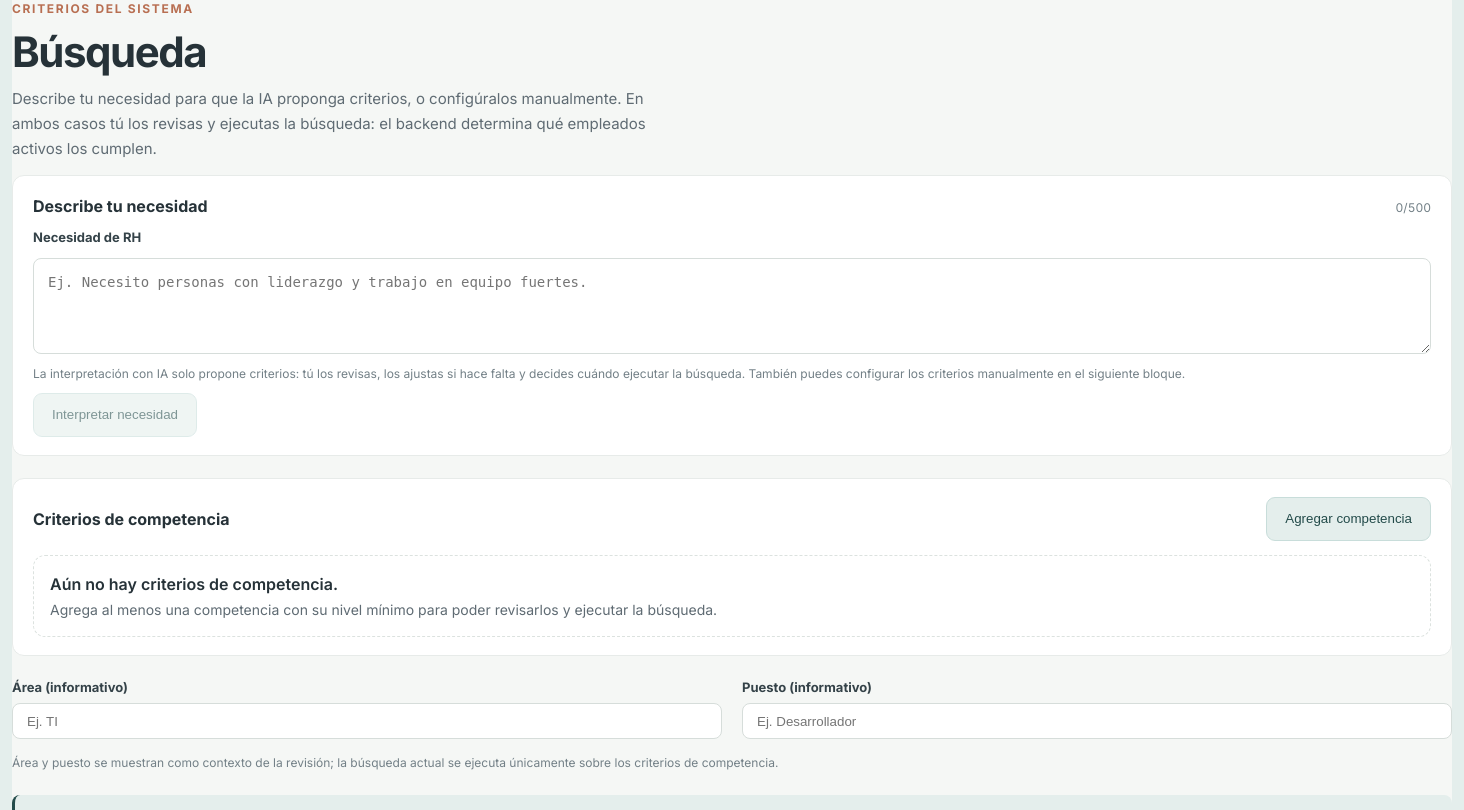
Búsqueda — criterios de competencia › cambiar la competencia de una fila se refleja en la revisión
Click the button "Agregar competencia": [1349, 519] box 1266,497 -> 1431,541
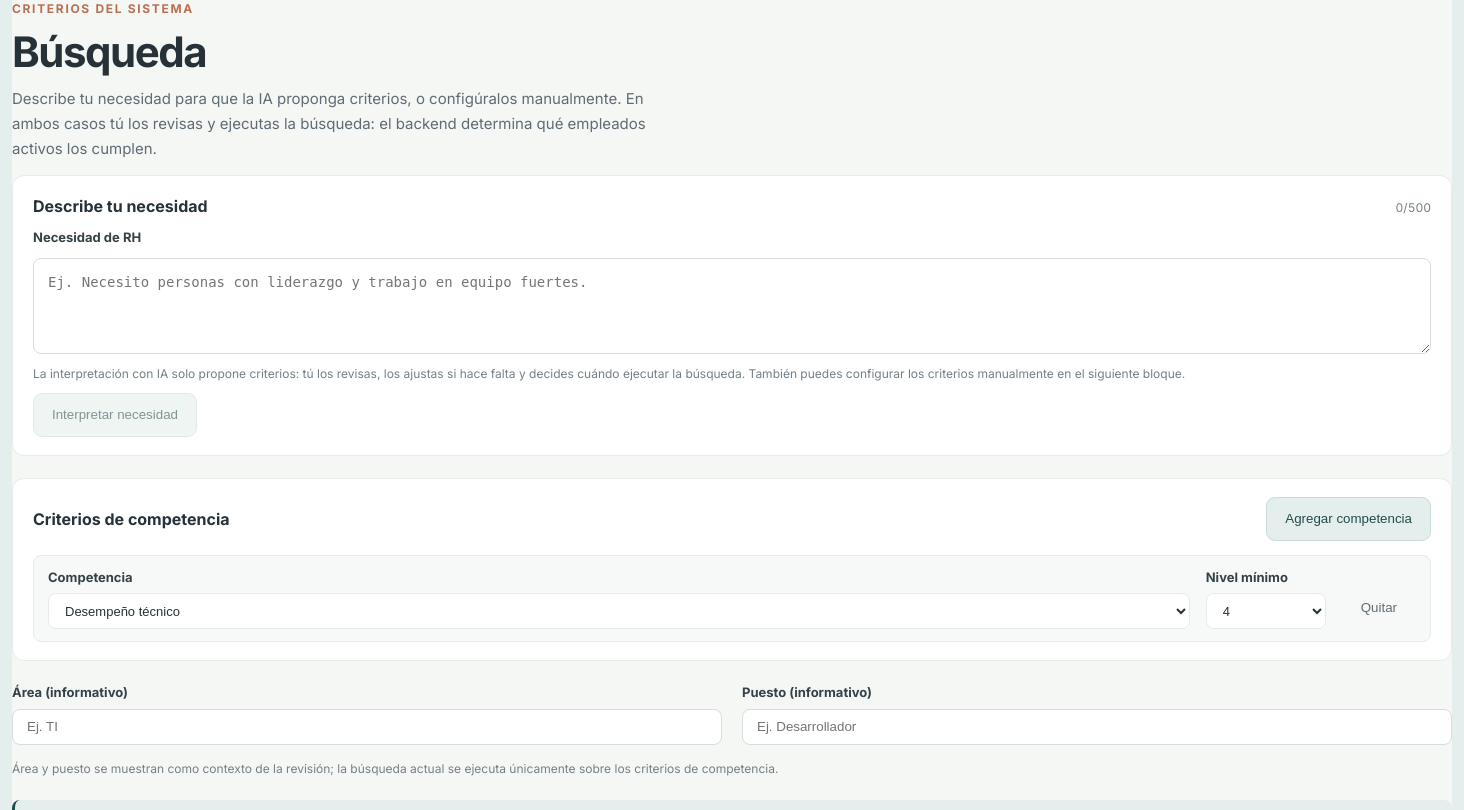
Select "Comunicación" in the dropdown named "Competencia del criterio 1": [619, 612] box 48,594 -> 1190,630
(page scrolled)
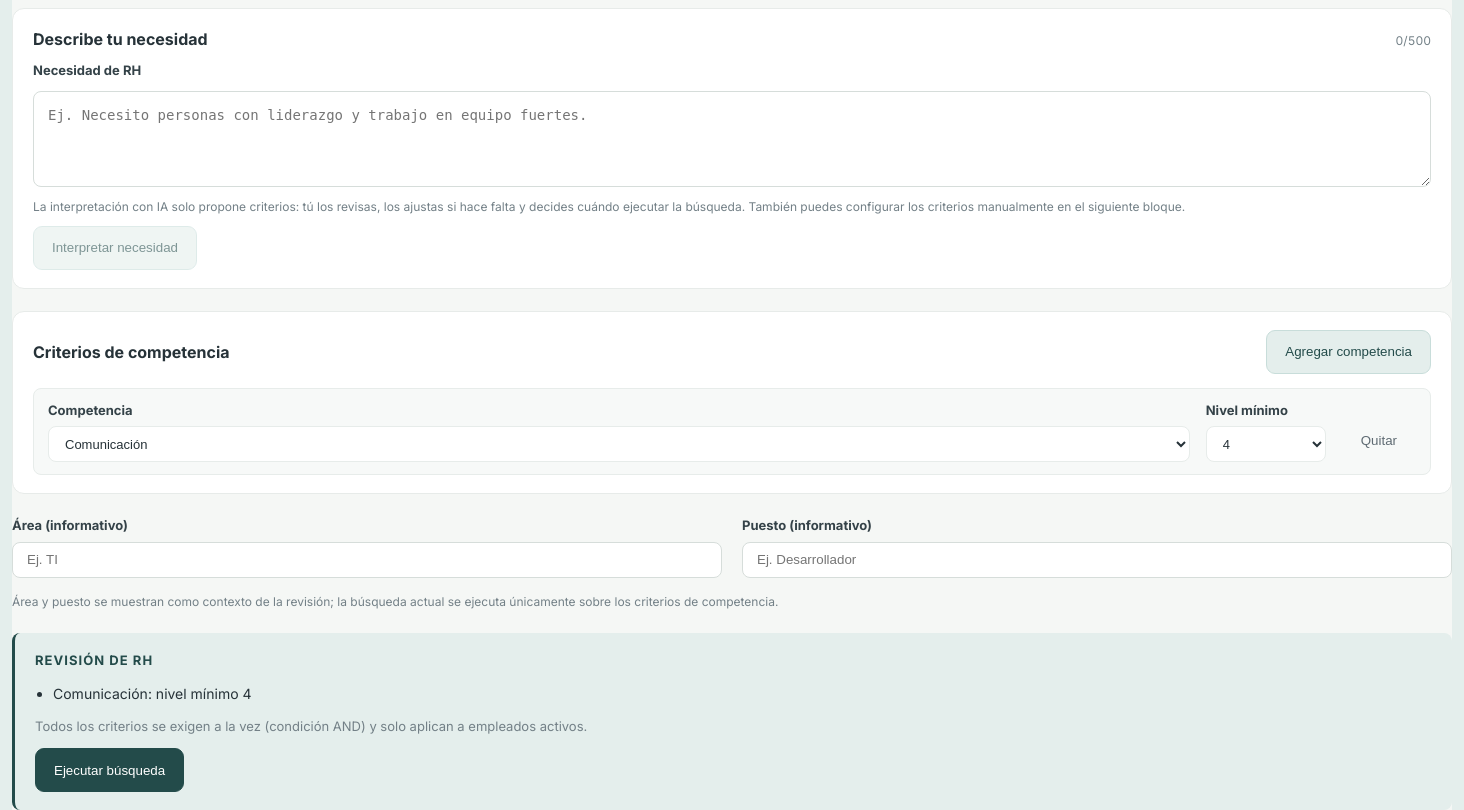
Now the list item "Comunicación: nivel mínimo 4" is shown, box 53,685 -> 252,702
